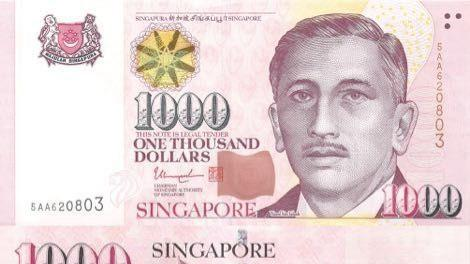1000SingaporeDollar: (0, 0, 470, 225)
